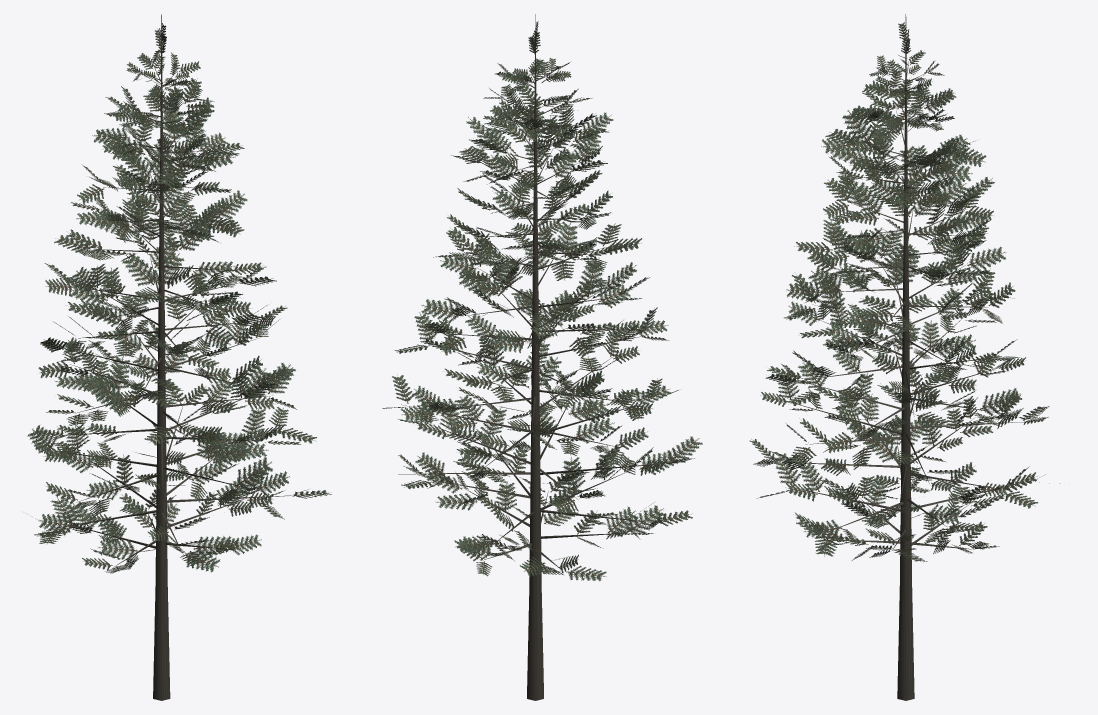
File: Sitka_Pole_01_LOD2.fbx
3 renders of one model, left to right at view 1: azimuth 30°, elevation 25°; view 2: azimuth 150°, elevation 25°; view 3: azimuth 270°, elevation 25°, orthographic.
Parts seen in each view (by area): view 1: Sitka_Pole_01_LOD2_Foliage, Sitka_Pole_01_LOD2_Branches, Sitka_Pole_01_LOD2_Trunk; view 2: Sitka_Pole_01_LOD2_Foliage, Sitka_Pole_01_LOD2_Branches, Sitka_Pole_01_LOD2_Trunk; view 3: Sitka_Pole_01_LOD2_Foliage, Sitka_Pole_01_LOD2_Branches, Sitka_Pole_01_LOD2_Trunk.
Part boxes in pixels (box(x1,y1,x2,y2)): Sitka_Pole_01_LOD2_Foliage: box(27, 23, 331, 573); Sitka_Pole_01_LOD2_Branches: box(48, 64, 296, 567); Sitka_Pole_01_LOD2_Trunk: box(153, 14, 170, 700); Sitka_Pole_01_LOD2_Foliage: box(382, 21, 702, 581); Sitka_Pole_01_LOD2_Branches: box(401, 72, 674, 571); Sitka_Pole_01_LOD2_Trunk: box(527, 14, 543, 700); Sitka_Pole_01_LOD2_Foliage: box(749, 22, 1059, 562); Sitka_Pole_01_LOD2_Branches: box(771, 57, 1037, 550); Sitka_Pole_01_LOD2_Trunk: box(897, 14, 914, 700).
Bounding box in the file's own units: 363 × 800 × 363.
